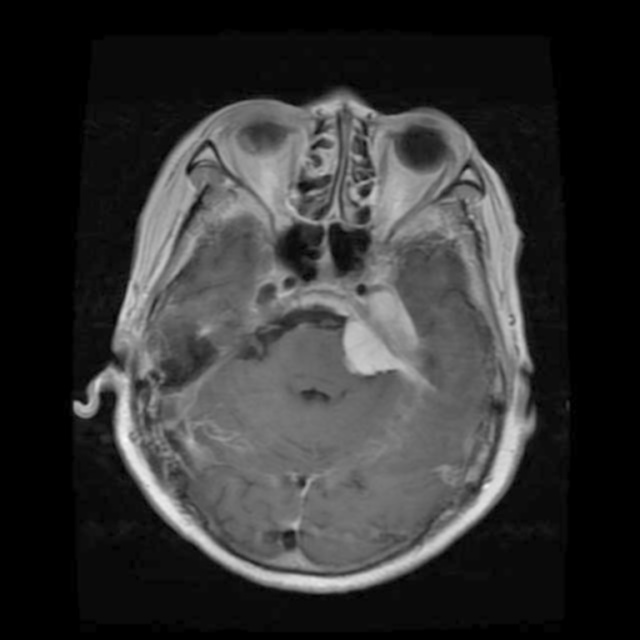meningioma tumor: (327, 275, 452, 406)
